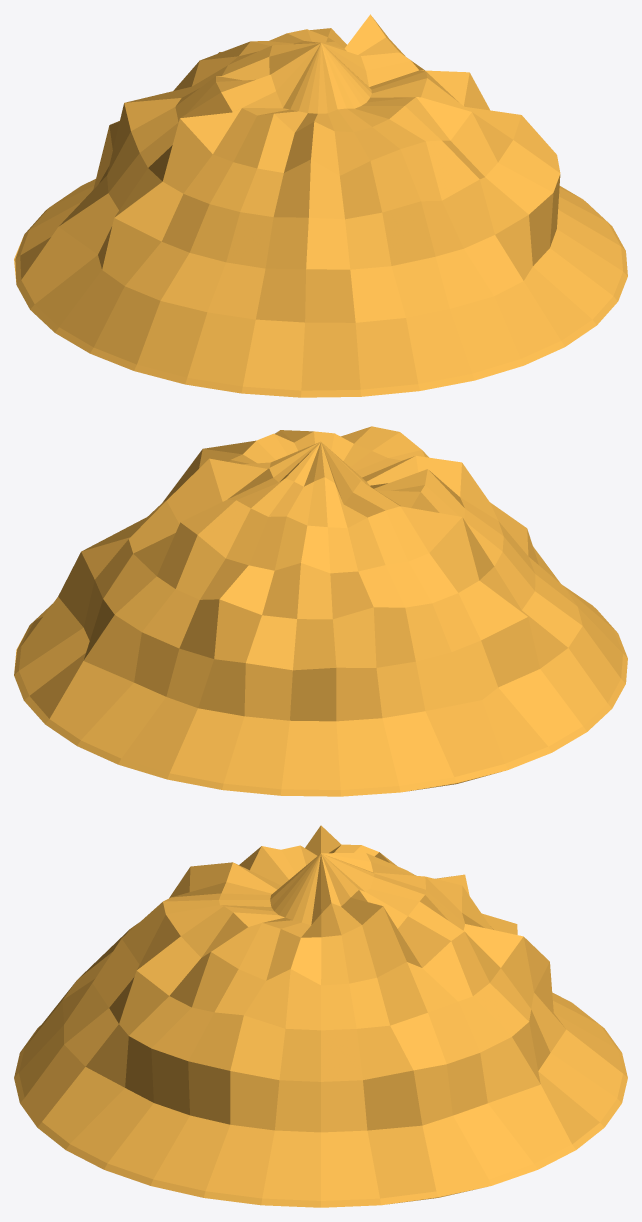
The model's file is Large Gold Pile.FBX.
3 views of the same model, one above another, from view 1: azimuth 30°, elevation 25°; view 2: azimuth 150°, elevation 25°; view 3: azimuth 270°, elevation 25° (orthographic).
Visible parts, largest first — view 1: Large Gold Pile; view 2: Large Gold Pile; view 3: Large Gold Pile.
Part boxes in pixels (left/top/right/bottom): Large Gold Pile: left=14, top=14, right=627, bottom=397; Large Gold Pile: left=14, top=426, right=627, bottom=796; Large Gold Pile: left=14, top=825, right=627, bottom=1207.
Bounding box in the file's own units: 5.41 × 2.19 × 5.41.
